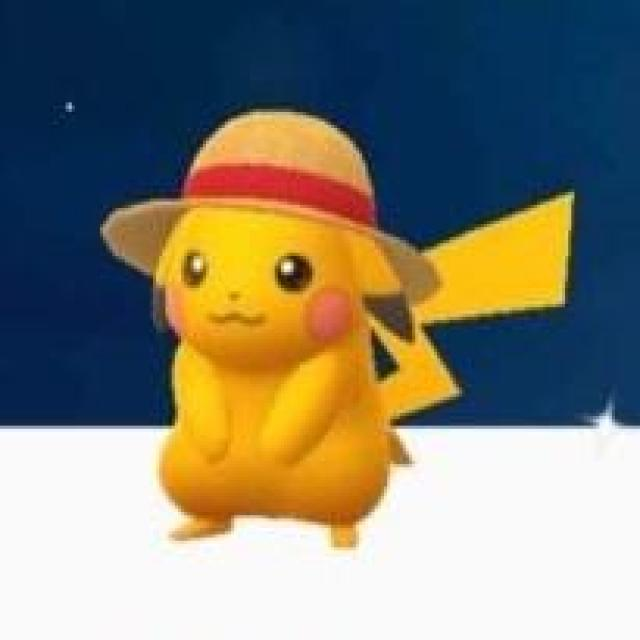pikachu: (154, 196, 576, 548)
